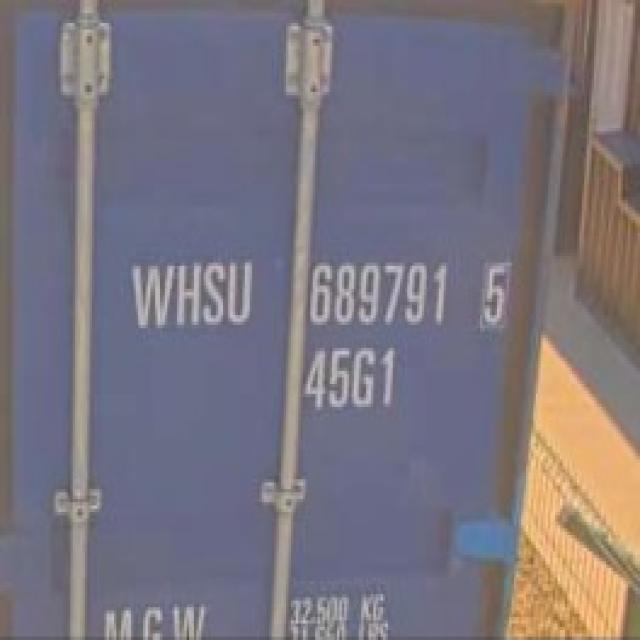dv: (474, 254, 515, 331)
owner: (120, 256, 262, 337)
serial: (305, 254, 450, 340)
size: (304, 343, 399, 416)
